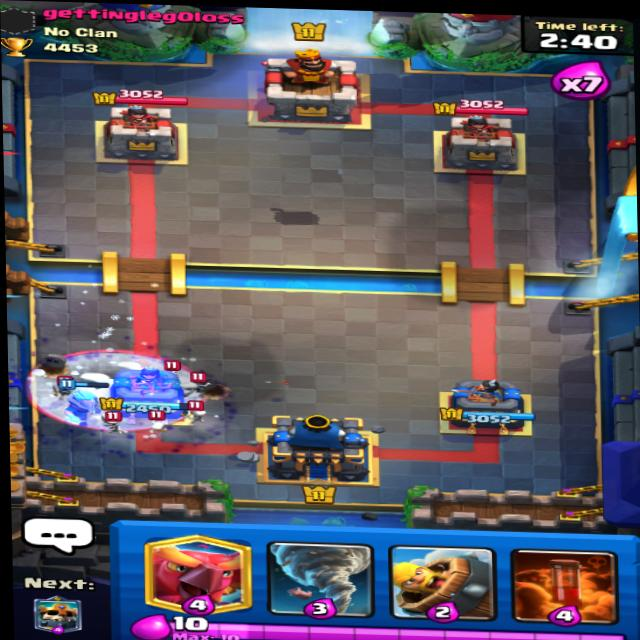Freeze: (35, 345, 208, 435)
Royaldelivery: (266, 194, 326, 234)
Skeleton: (139, 409, 172, 432), (185, 402, 213, 426), (100, 412, 129, 434), (185, 374, 213, 394)
